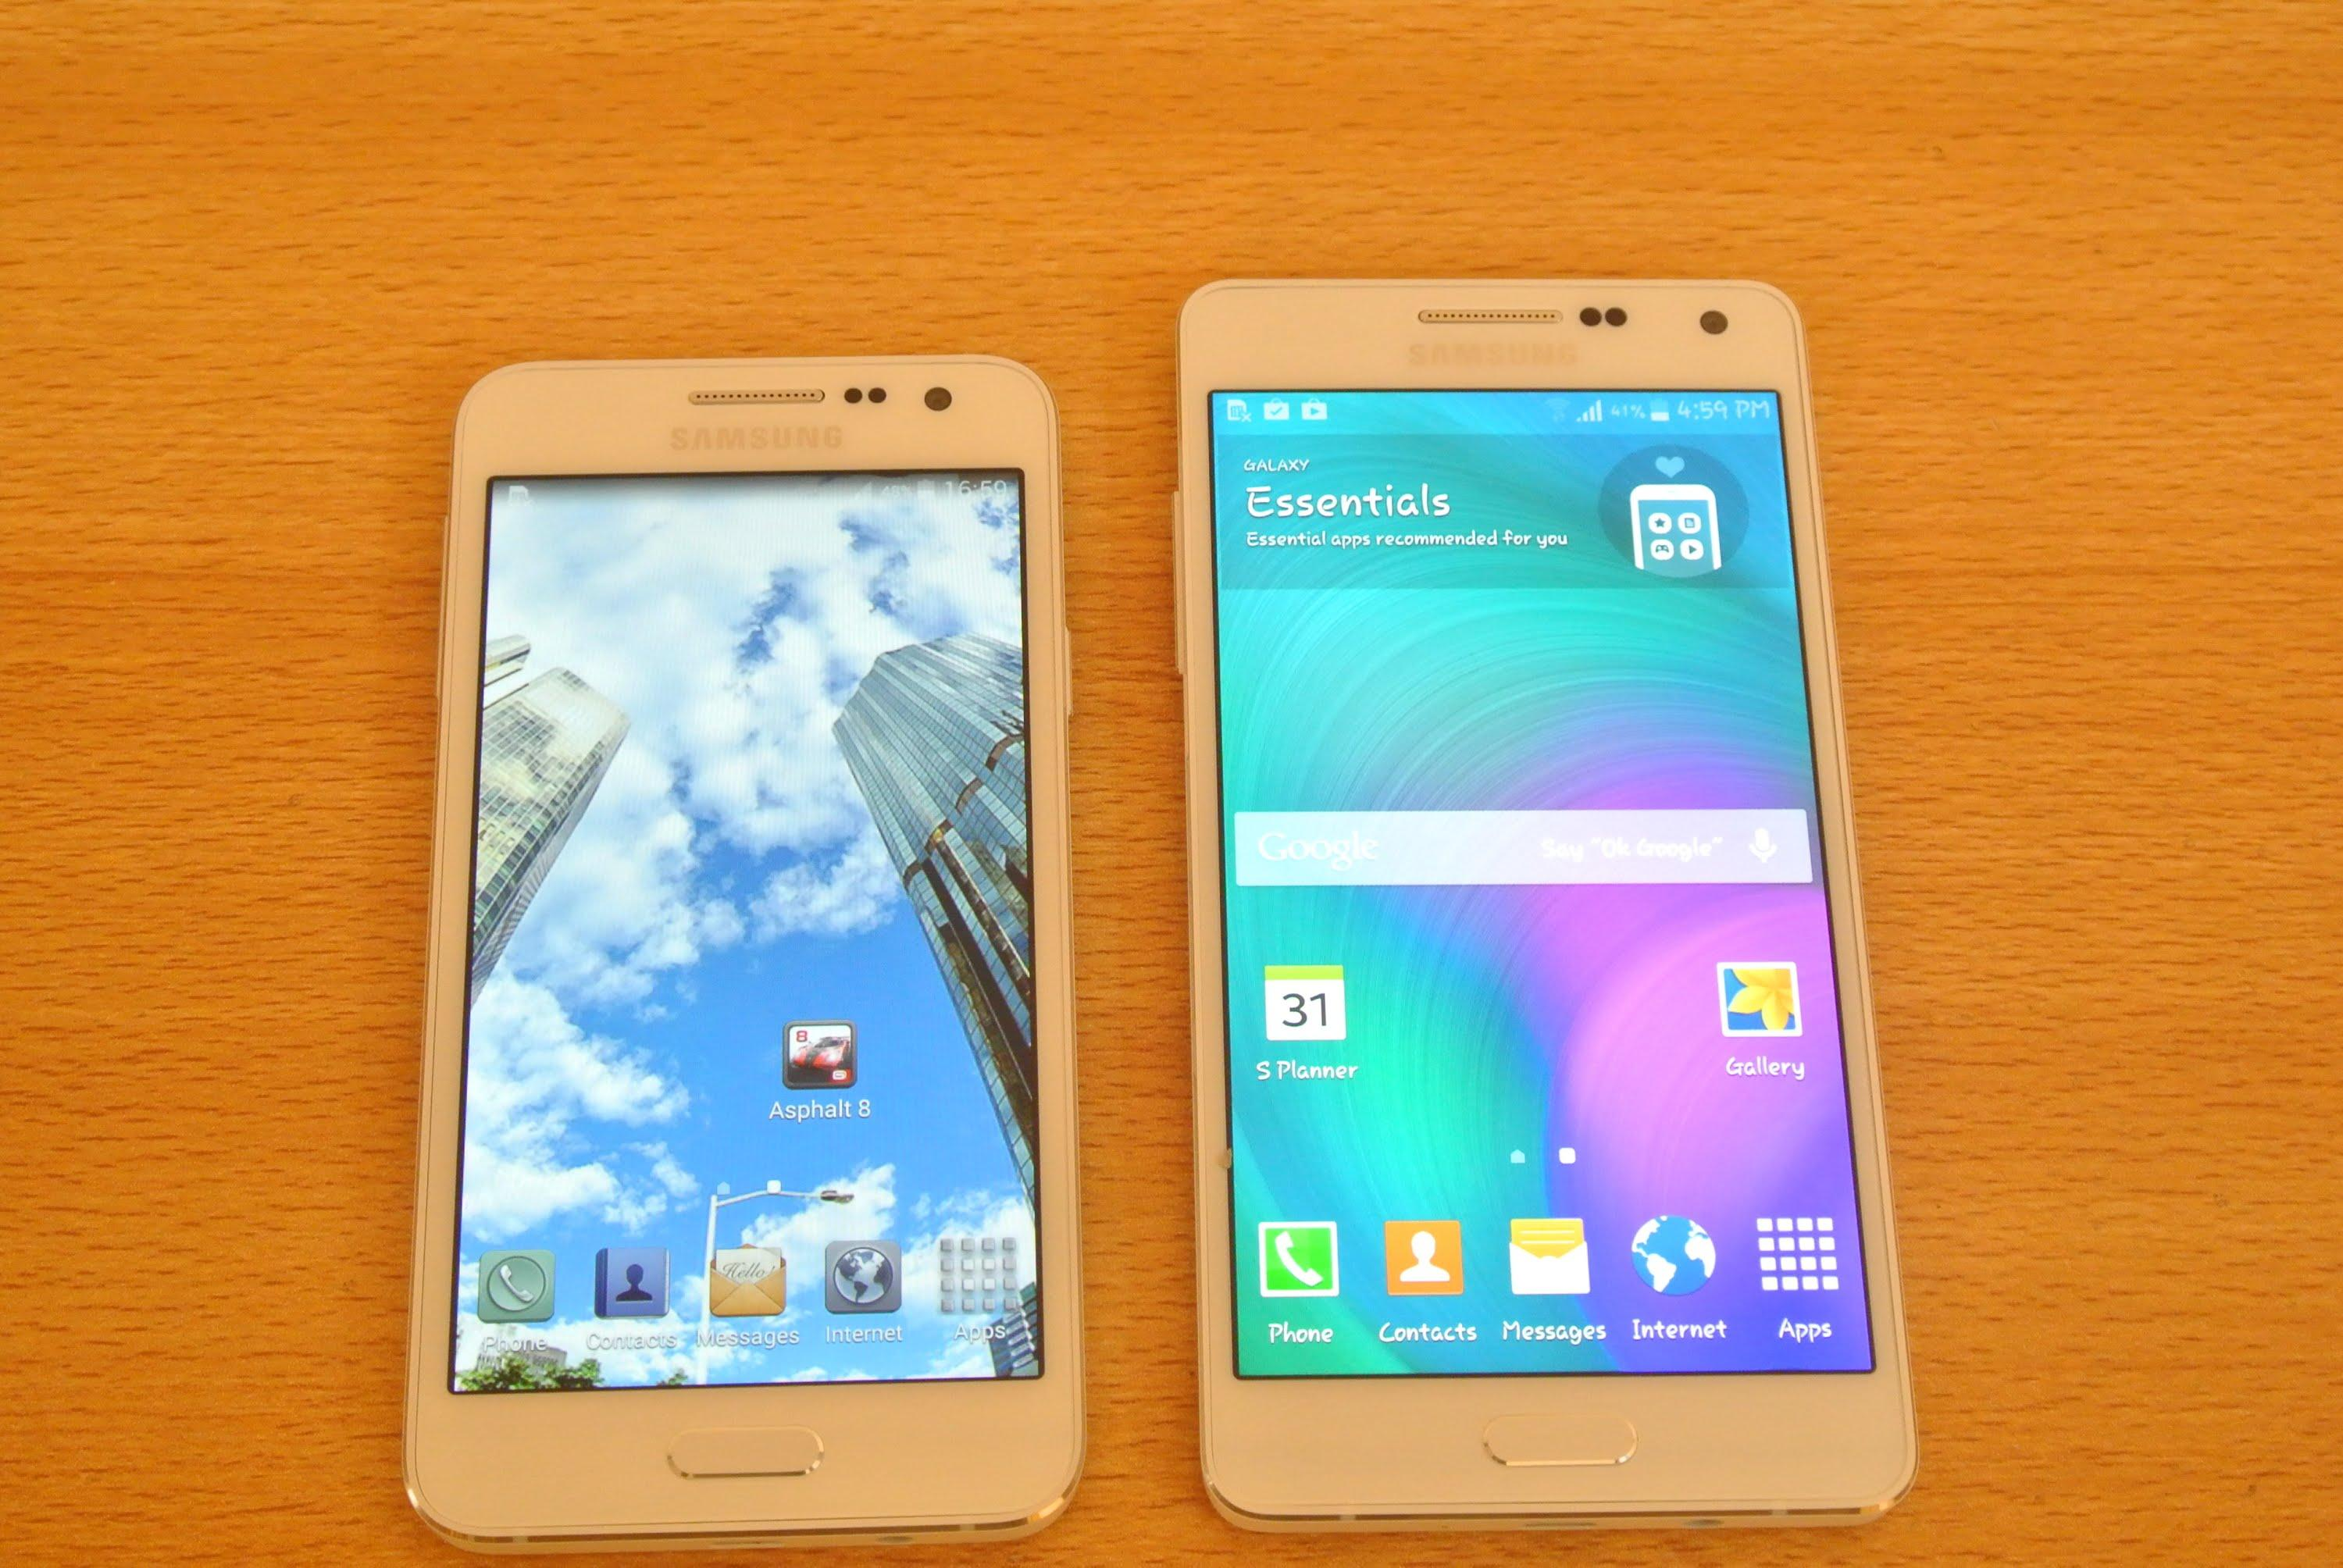Smart Phone: (1178, 282, 1916, 1528), (401, 353, 1087, 1559)
